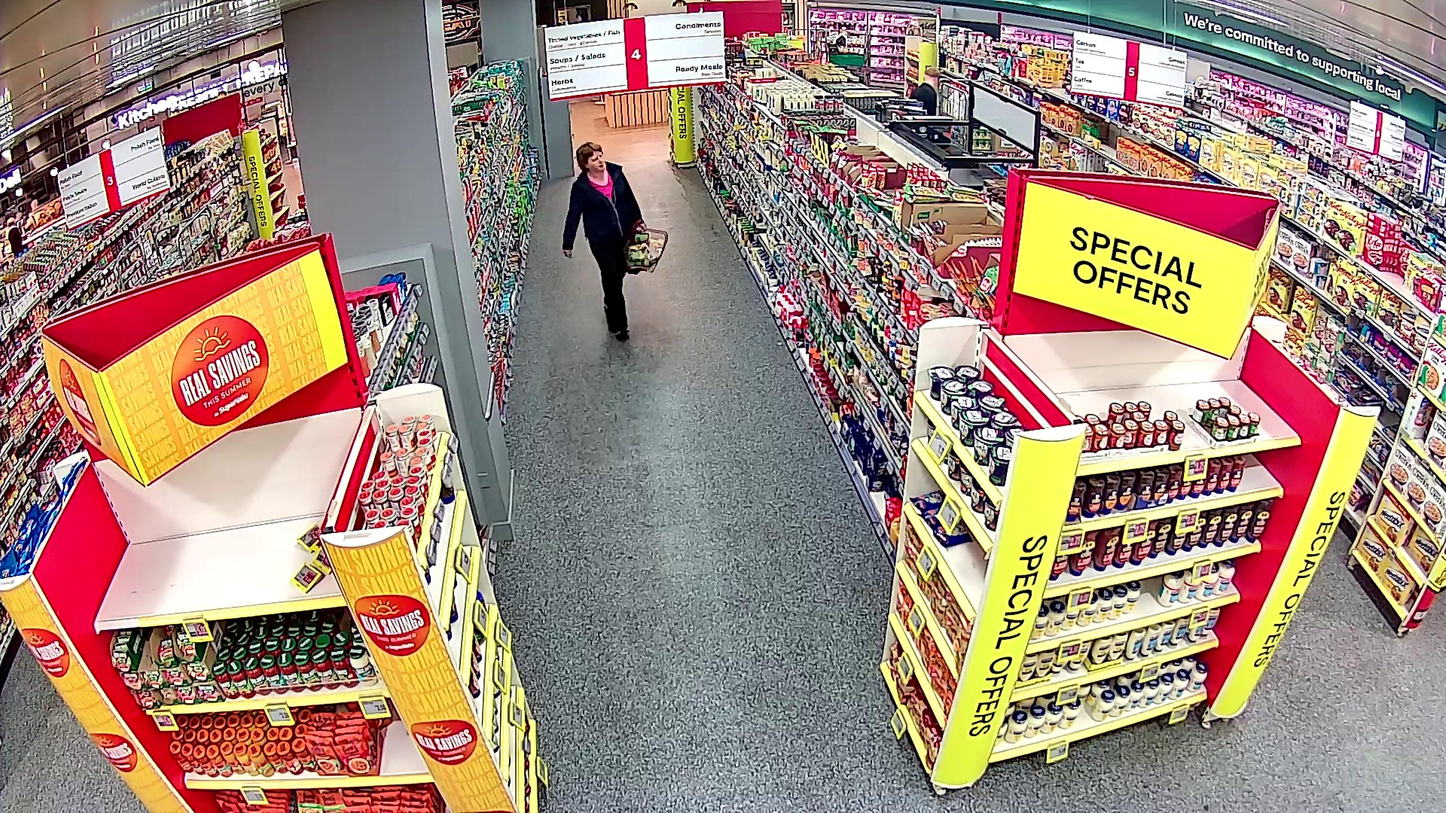filled-basket: (624, 227, 668, 272)
person: (563, 142, 646, 342)
person-with-filled-basket-trolly: (563, 142, 668, 341)
